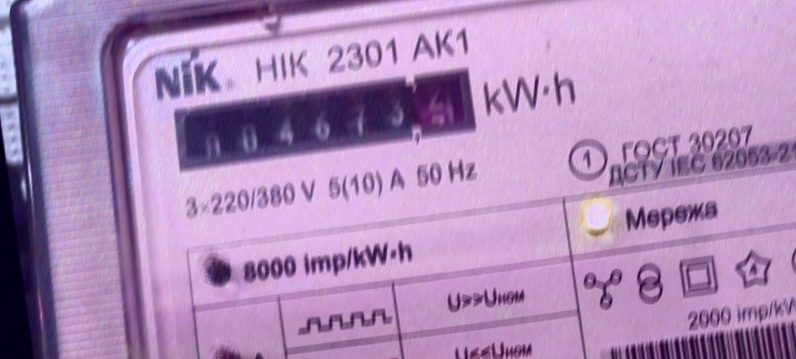0: (198, 127, 222, 160), (235, 120, 257, 153)
2: (420, 78, 444, 113)
3: (383, 93, 404, 129)
4: (272, 111, 295, 148)
6: (306, 106, 331, 143)
7: (343, 101, 370, 140)
screen: (164, 63, 480, 181)
